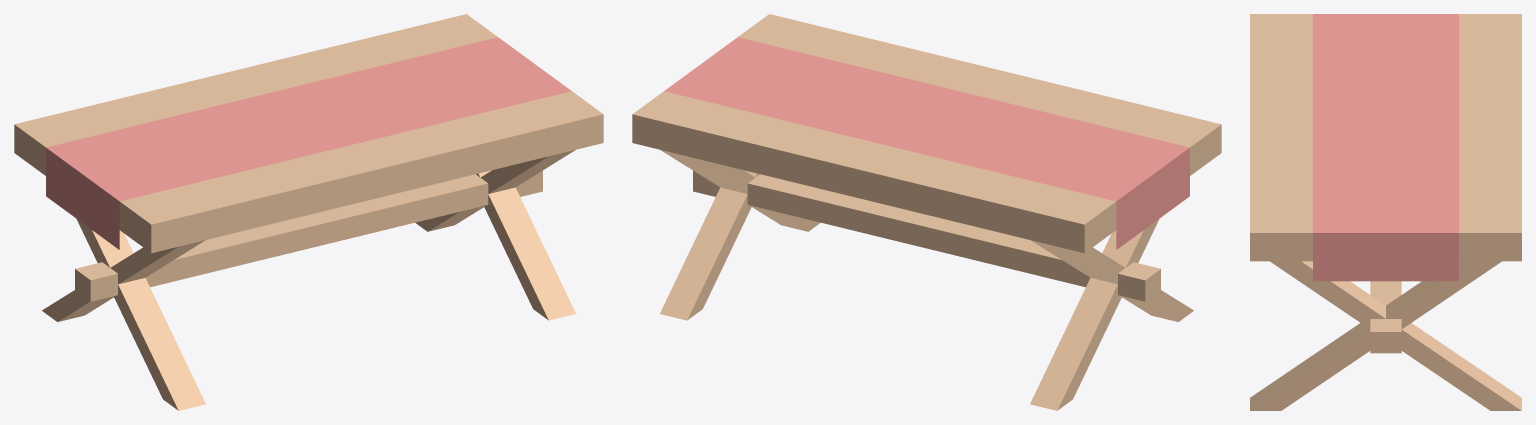
File: tableCrossCloth.glb
3 renders of one model, left to right at view 1: azimuth 30°, elevation 25°; view 2: azimuth 150°, elevation 25°; view 3: azimuth 270°, elevation 25°, orthographic.
Parts seen in each view (by area): view 1: tableCrossCloth(Clone); view 2: tableCrossCloth(Clone); view 3: tableCrossCloth(Clone).
Part boxes in pixels (x1,y1,x2,y2): tableCrossCloth(Clone): [14, 14, 603, 410]; tableCrossCloth(Clone): [632, 14, 1221, 410]; tableCrossCloth(Clone): [1250, 14, 1521, 410].
Size of the model in its own units: 1.73 by 0.7052 by 0.9082.
2 materials, 2 textured.
